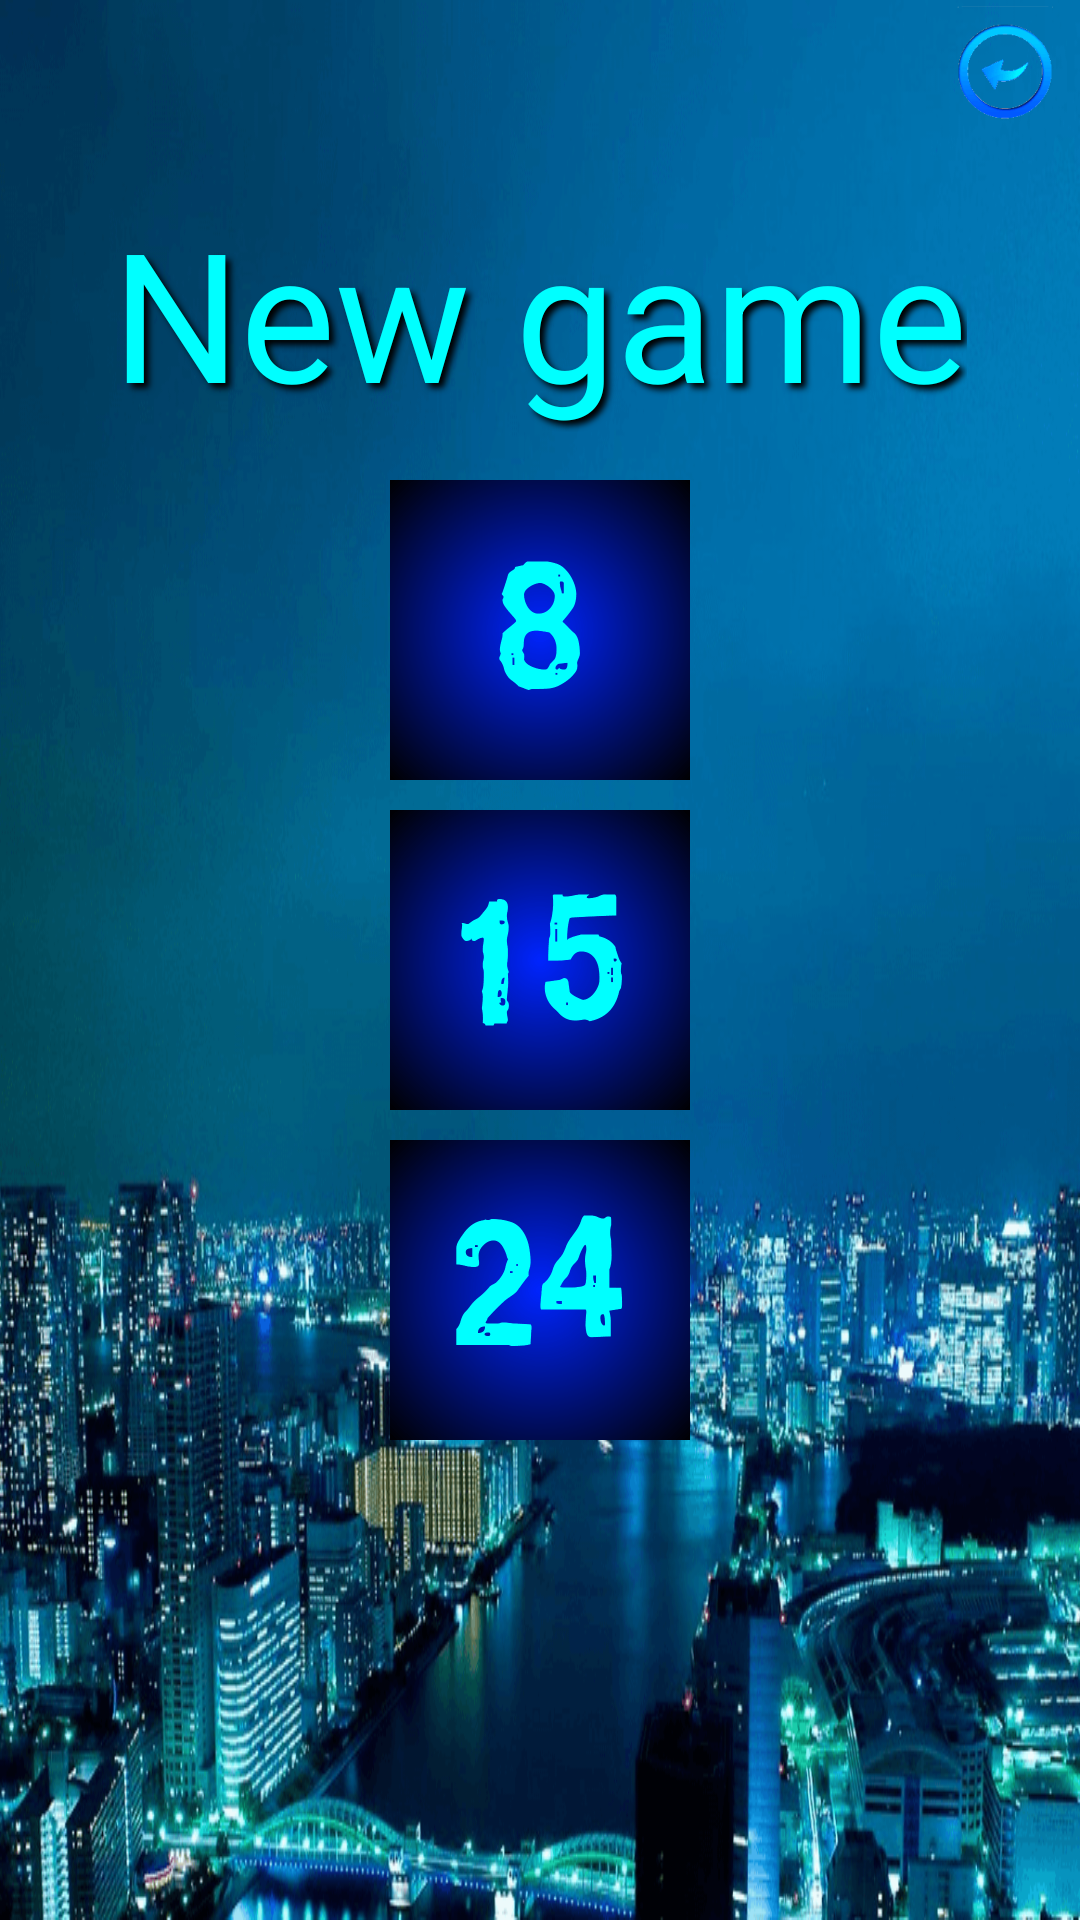

Screen size 1080 × 1920. Icon name, then its box in pixels as (x1, y1, x2, y2):
back: (958, 7, 1053, 119)
